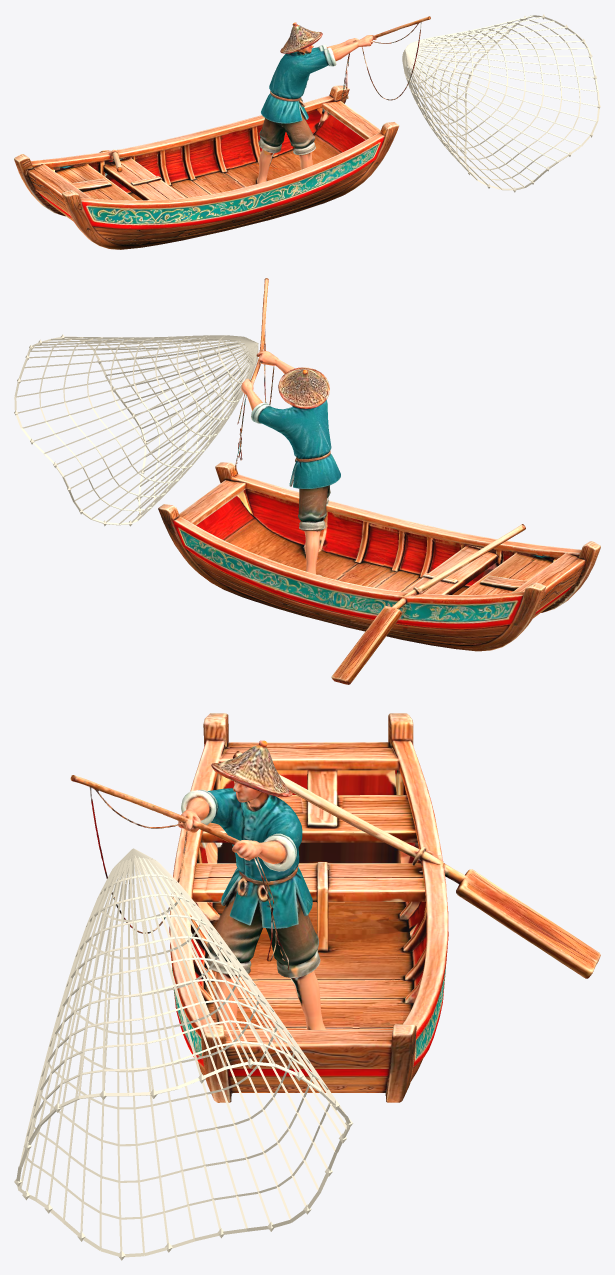
File: ql_fishboat.glb
3 renders of one model, top to bottom at view 1: azimuth 30°, elevation 25°; view 2: azimuth 150°, elevation 25°; view 3: azimuth 270°, elevation 25°, orthographic. The views are drawn at different scales.
Visible parts, largest first — view 1: ql_fishboat; view 2: ql_fishboat; view 3: ql_fishboat.
Boxes of the visible parts, left/top/right/bottom form: ql_fishboat: left=14, top=14, right=600, bottom=249; ql_fishboat: left=14, top=278, right=600, bottom=684; ql_fishboat: left=14, top=713, right=600, bottom=1260.
Bounding box in the file's own units: 7.59 × 3.04 × 4.05.
Materials: 2 (1 with a texture image).
